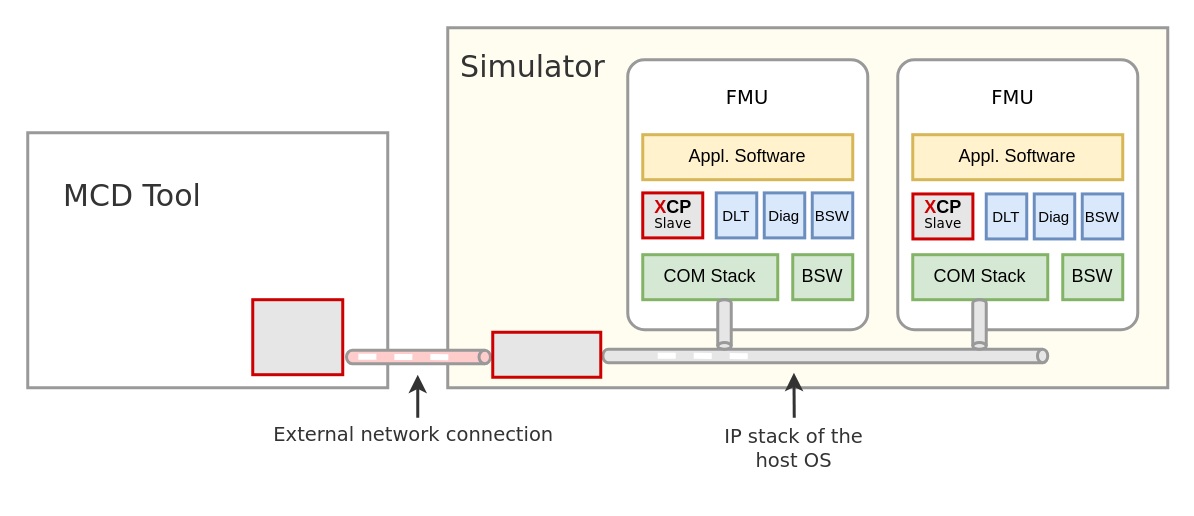
Image size: 1194x516. Some labels were removed from this diagram. The shapes that lost their labels are listed below. From the top down, each one's centre as x and y in pixels, then its label:
(297,336): X CP Master
(546,354): Bridge
